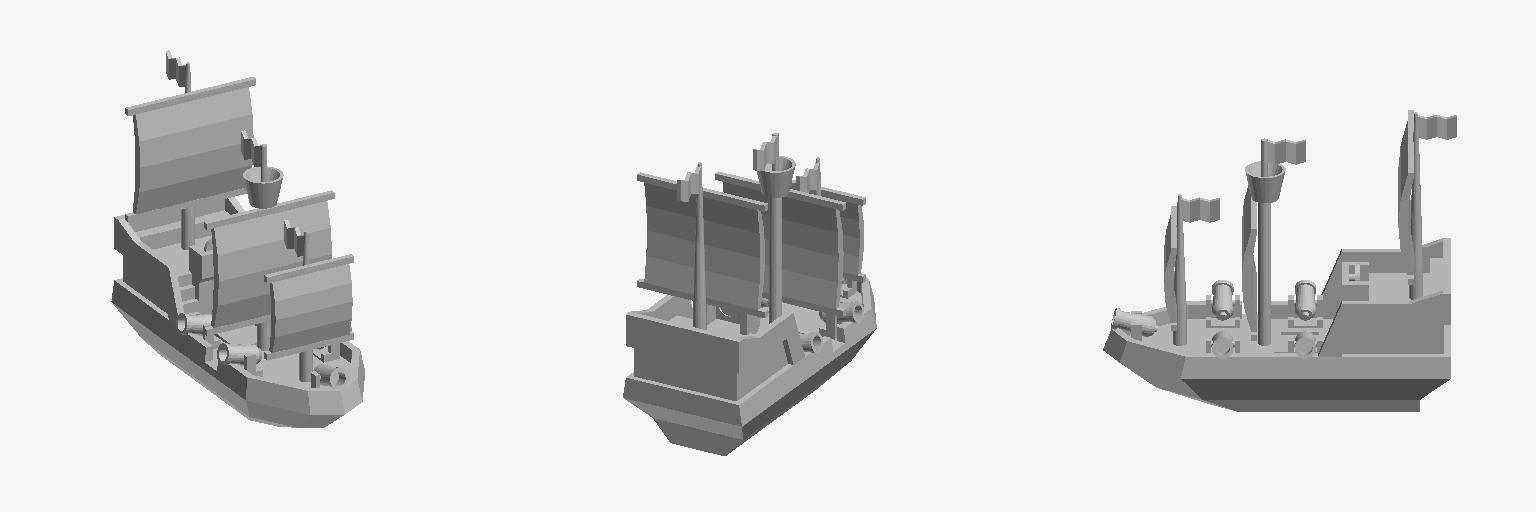
Rendered from watercraftPack_003_DP.obj.
3 renders of one model, left to right at view 1: azimuth 30°, elevation 25°; view 2: azimuth 150°, elevation 25°; view 3: azimuth 270°, elevation 25°, orthographic.
Parts seen in each view (by area): view 1: Mesh22 Group12 Group1 Model, Mesh15 Group17 Group12 Group1 Model, Mesh12 Group14 Group12 Group1 Model, Mesh19 Group21 Group12 Group1 Model, Mesh16 Group18 Group12 Group1 Model, Mesh9 Group10 Cannon_right_1 Group1 Model, Mesh14 Group16 Group12 Group1 Model, Mesh7 Group8 Cannon_right_2 Group1 Model, Mesh3 Group4 Cannon_front Group1 Model, Mesh13 Group15 Group12 Group1 Model, Mesh20 Group22 Group12 Group1 Model; view 2: Mesh22 Group12 Group1 Model, Mesh15 Group17 Group12 Group1 Model, Mesh12 Group14 Group12 Group1 Model, Mesh19 Group21 Group12 Group1 Model, Mesh13 Group15 Group12 Group1 Model, Mesh14 Group16 Group12 Group1 Model, Mesh16 Group18 Group12 Group1 Model, Mesh18 Group20 Group12 Group1 Model, Mesh17 Group19 Group12 Group1 Model; view 3: Mesh22 Group12 Group1 Model, Mesh13 Group15 Group12 Group1 Model, Mesh15 Group17 Group12 Group1 Model, Mesh12 Group14 Group12 Group1 Model, Mesh14 Group16 Group12 Group1 Model, Mesh20 Group22 Group12 Group1 Model, Mesh16 Group18 Group12 Group1 Model, Mesh19 Group21 Group12 Group1 Model, Mesh18 Group20 Group12 Group1 Model, Mesh17 Group19 Group12 Group1 Model, Mesh21 Group23 Group12 Group1 Model, Mesh9 Group10 Cannon_right_1 Group1 Model (+4 smaller).
Boxes of the visible parts, box(x1,y1,x2,y2) form: Mesh22 Group12 Group1 Model: box(111, 197, 364, 427); Mesh15 Group17 Group12 Group1 Model: box(125, 77, 255, 222); Mesh12 Group14 Group12 Group1 Model: box(204, 190, 334, 335); Mesh19 Group21 Group12 Group1 Model: box(264, 254, 353, 360); Mesh16 Group18 Group12 Group1 Model: box(243, 166, 283, 208); Mesh9 Group10 Cannon_right_1 Group1 Model: box(217, 343, 261, 364); Mesh14 Group16 Group12 Group1 Model: box(181, 62, 194, 249); Mesh7 Group8 Cannon_right_2 Group1 Model: box(176, 313, 214, 334); Mesh3 Group4 Cannon_front Group1 Model: box(313, 364, 348, 389); Mesh13 Group15 Group12 Group1 Model: box(257, 144, 270, 350); Mesh20 Group22 Group12 Group1 Model: box(299, 231, 312, 381); Mesh22 Group12 Group1 Model: box(623, 277, 876, 455); Mesh15 Group17 Group12 Group1 Model: box(637, 172, 767, 317); Mesh12 Group14 Group12 Group1 Model: box(715, 171, 845, 316); Mesh19 Group21 Group12 Group1 Model: box(790, 180, 865, 282); Mesh13 Group15 Group12 Group1 Model: box(769, 133, 781, 323); Mesh14 Group16 Group12 Group1 Model: box(693, 162, 706, 329); Mesh16 Group18 Group12 Group1 Model: box(757, 156, 795, 197); Mesh18 Group20 Group12 Group1 Model: box(677, 165, 700, 201); Mesh17 Group19 Group12 Group1 Model: box(753, 136, 776, 170); Mesh22 Group12 Group1 Model: box(1103, 238, 1450, 411); Mesh13 Group15 Group12 Group1 Model: box(1258, 138, 1270, 345); Mesh15 Group17 Group12 Group1 Model: box(1398, 110, 1413, 284); Mesh12 Group14 Group12 Group1 Model: box(1242, 185, 1256, 340); Mesh14 Group16 Group12 Group1 Model: box(1409, 112, 1422, 299); Mesh20 Group22 Group12 Group1 Model: box(1173, 194, 1186, 345); Mesh16 Group18 Group12 Group1 Model: box(1245, 161, 1285, 202); Mesh19 Group21 Group12 Group1 Model: box(1164, 206, 1176, 330); Mesh18 Group20 Group12 Group1 Model: box(1416, 115, 1456, 139); Mesh17 Group19 Group12 Group1 Model: box(1267, 139, 1305, 164); Mesh21 Group23 Group12 Group1 Model: box(1179, 197, 1219, 222); Mesh9 Group10 Cannon_right_1 Group1 Model: box(1212, 280, 1233, 320).
Bounding box in the file's own units: 3.77 × 8.01 × 9.